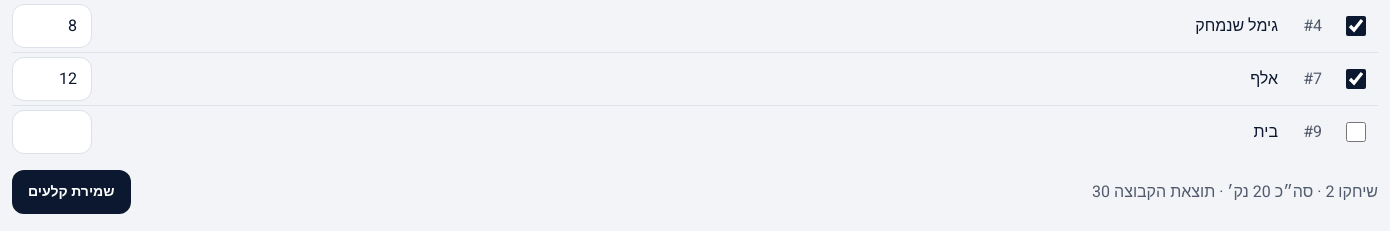
Scenario: GameScorersEditor › typing points marks the player played
Expected: the checkbox named "בית שיחק" is not checked, left=1346, top=122, right=1366, bottom=142
Type "5" into the number field labelled "#9 בית".
click(52, 132); type("5")  # box left=12, top=110, right=92, bottom=154
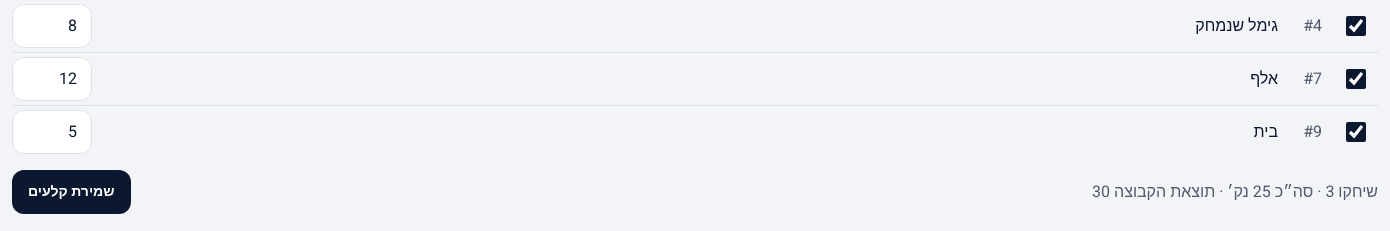
Expected: the checkbox named "בית שיחק" is checked, left=1346, top=122, right=1366, bottom=142
